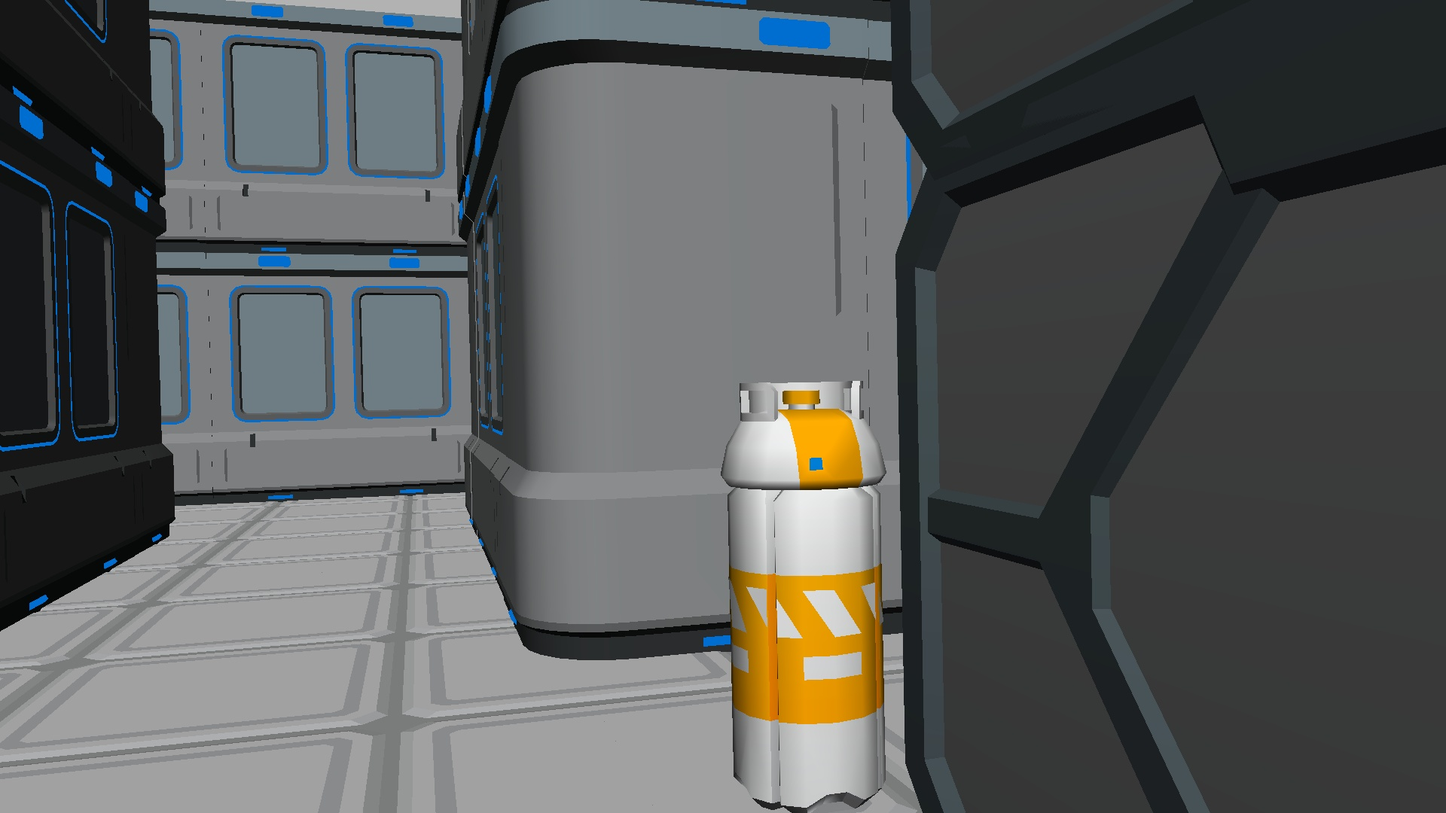yellow barrel: (721, 378, 888, 813)
